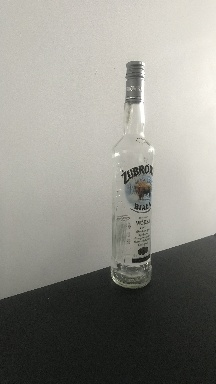butelka: (109, 57, 156, 292)
